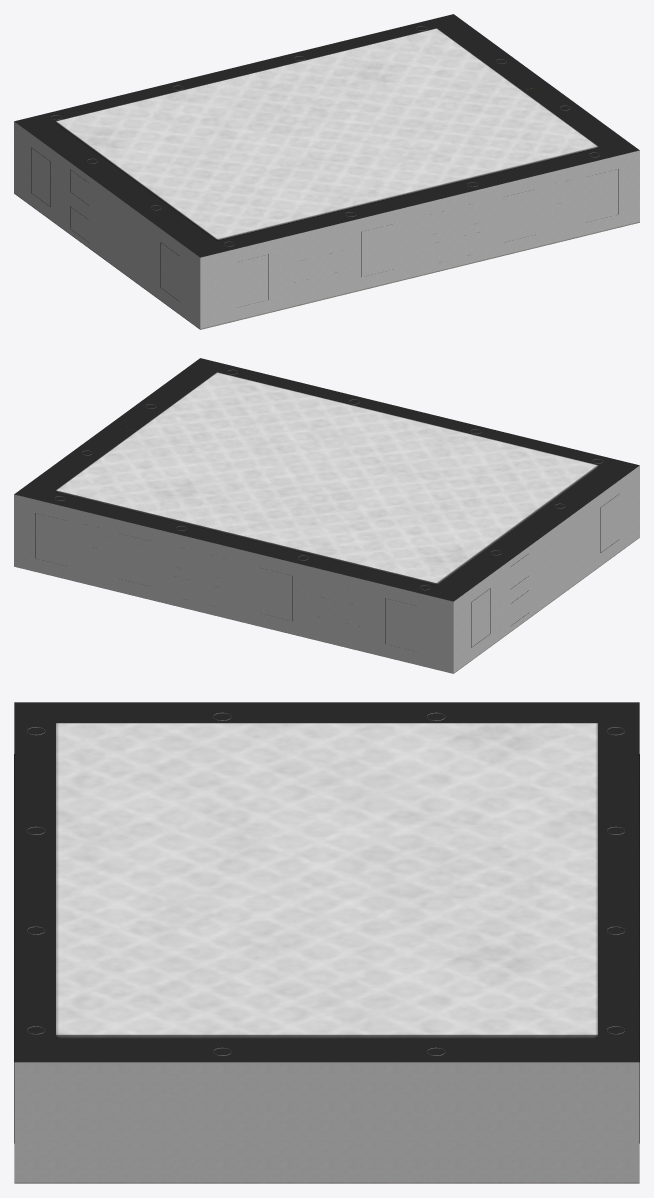
File: exhibition_hall.glb
3 renders of one model, top to bottom at view 1: azimuth 30°, elevation 25°; view 2: azimuth 150°, elevation 25°; view 3: azimuth 270°, elevation 25°, orthographic. The views are drawn at different scales.
Visible parts, largest first — view 1: Art_Room; view 2: Art_Room; view 3: Art_Room.
Boxes of the visible parts, x1,y1,x2,y2 form: Art_Room: (14, 14, 639, 329); Art_Room: (14, 358, 639, 673); Art_Room: (14, 702, 639, 1183).
Bounding box in the file's own units: 27.64 × 4.46 × 20.29.
Materials: 1 (1 with a texture image).
